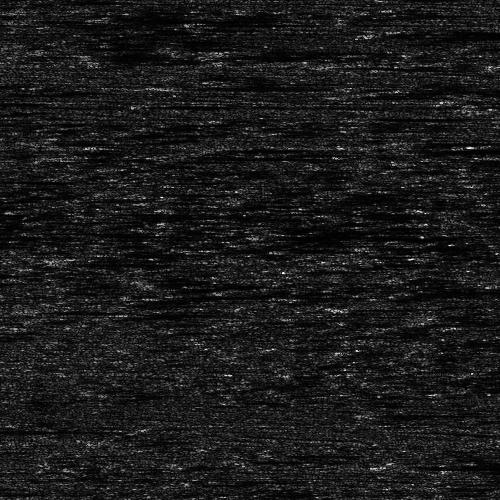rock: (347, 455, 452, 474), (146, 82, 219, 89), (378, 27, 431, 36)
shadow: (400, 455, 500, 474), (183, 82, 331, 89), (405, 27, 500, 36), (0, 220, 88, 229), (0, 427, 94, 432), (0, 96, 58, 103)
